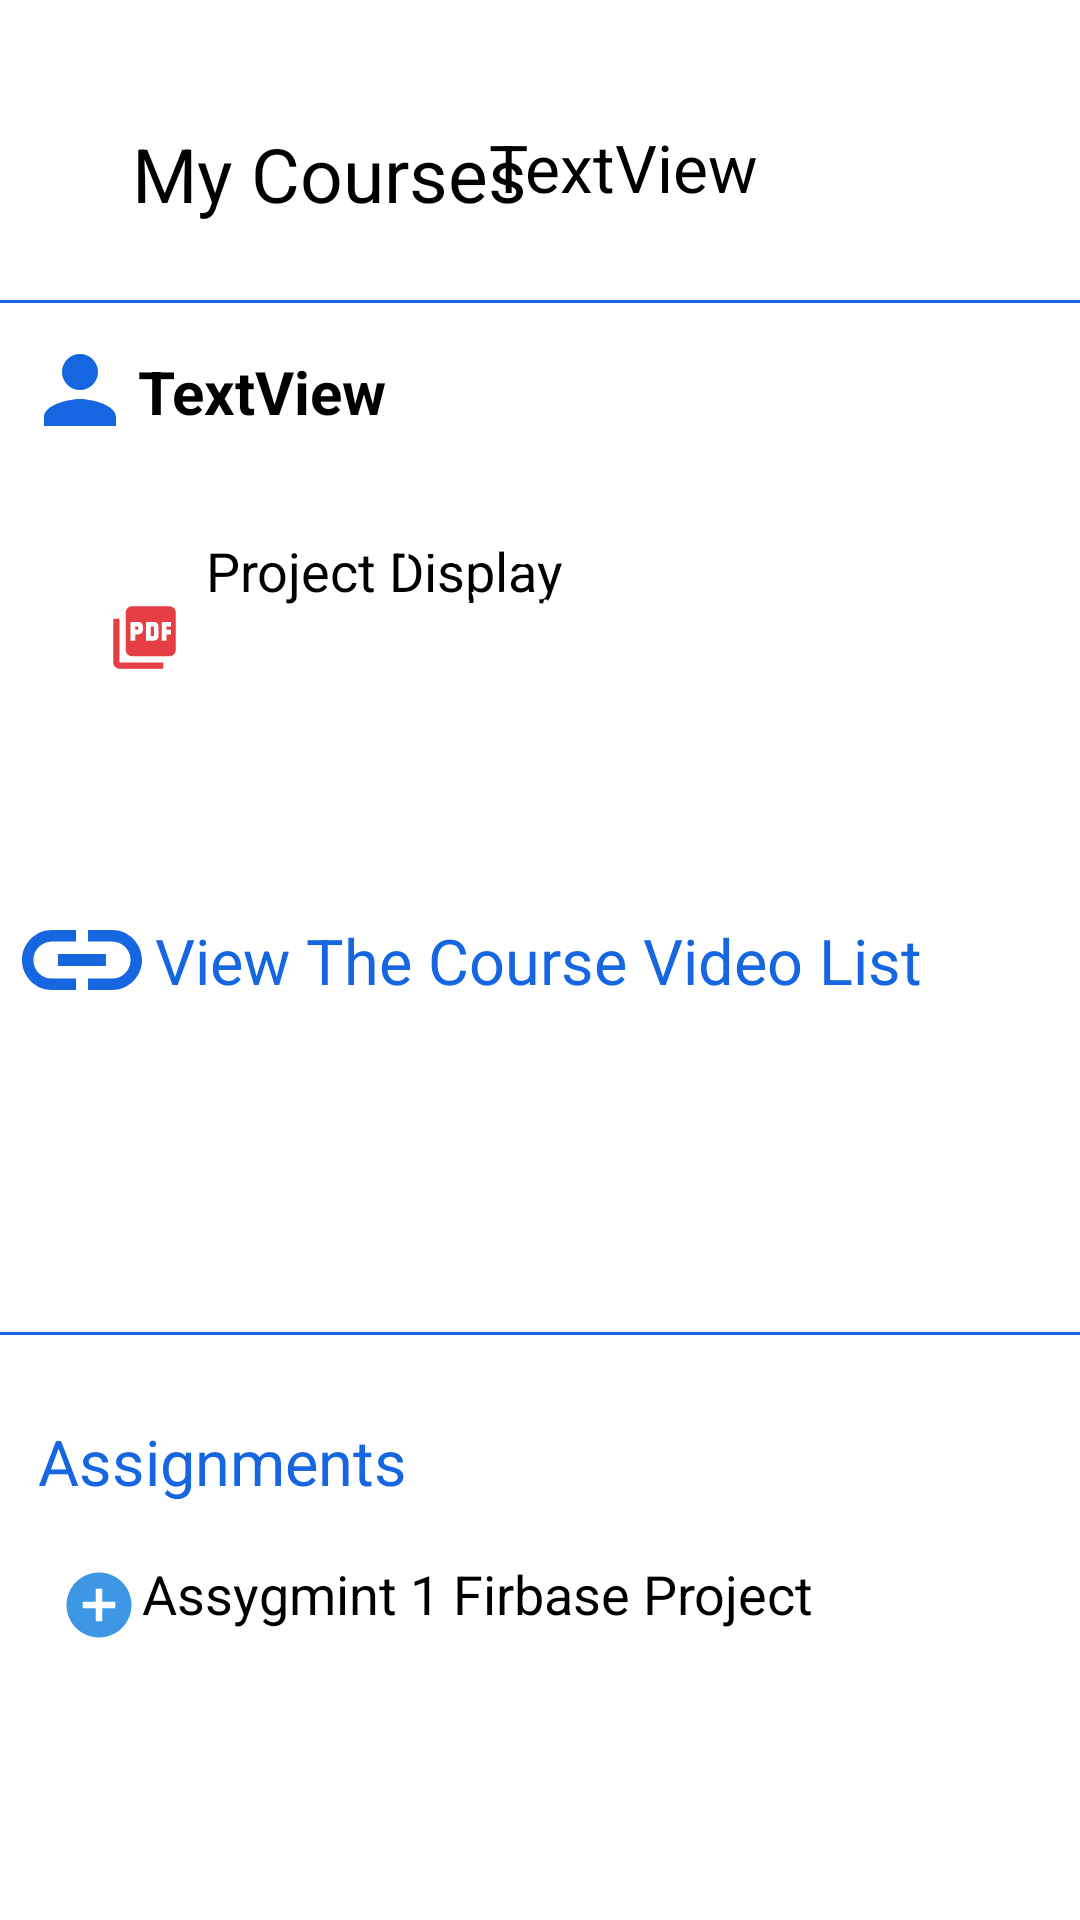

Icon bounding boxes for this 1080 × 1920 phone screenshot, format [x1=x1, y1=y1, x2=x2, y2=y2]:
add circle: [x1=66, y1=1572, x2=132, y2=1638]
insert link: [x1=22, y1=930, x2=142, y2=990]
person: [x1=44, y1=354, x2=116, y2=426]
picture as pdf: [x1=113, y1=606, x2=176, y2=669]
